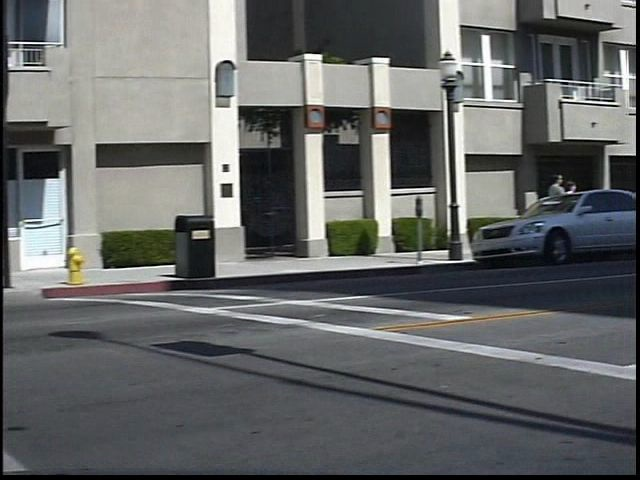person: (554, 169, 578, 245), (574, 178, 594, 238)
